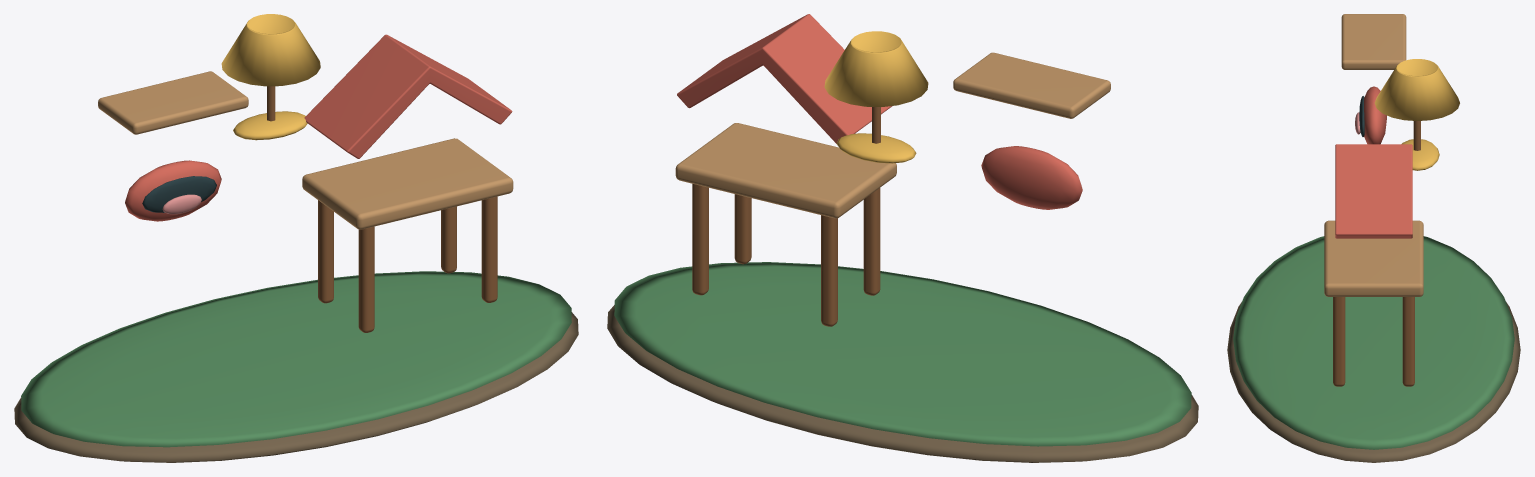
File: complete-third-covered-table-lamp.glb
The picture shows the model from 3 angles, left to right: view 1: azimuth 30°, elevation 25°; view 2: azimuth 150°, elevation 25°; view 3: azimuth 270°, elevation 25°; orthographic projection. The views are drawn at different scales.
Parts seen in each view (by area): view 1: complete-third-covered-table-lamp_surface_01, complete-third-covered-table-lamp_surface_02, complete-third-covered-table-lamp_surface_03, complete-third-covered-table-lamp_surface_00, complete-third-covered-table-lamp_surface_07, complete-third-covered-table-lamp_surface_06, complete-third-covered-table-lamp_surface_04, complete-third-covered-table-lamp_surface_05; view 2: complete-third-covered-table-lamp_surface_01, complete-third-covered-table-lamp_surface_02, complete-third-covered-table-lamp_surface_03, complete-third-covered-table-lamp_surface_00, complete-third-covered-table-lamp_surface_07, complete-third-covered-table-lamp_surface_06; view 3: complete-third-covered-table-lamp_surface_01, complete-third-covered-table-lamp_surface_02, complete-third-covered-table-lamp_surface_03, complete-third-covered-table-lamp_surface_00, complete-third-covered-table-lamp_surface_07, complete-third-covered-table-lamp_surface_06.
Boxes of the visible parts, left/top/right/bottom form: complete-third-covered-table-lamp_surface_01: left=21, top=271, right=571, bottom=447; complete-third-covered-table-lamp_surface_02: left=98, top=71, right=513, bottom=229; complete-third-covered-table-lamp_surface_03: left=125, top=34, right=512, bottom=221; complete-third-covered-table-lamp_surface_00: left=14, top=312, right=578, bottom=462; complete-third-covered-table-lamp_surface_07: left=221, top=14, right=320, bottom=140; complete-third-covered-table-lamp_surface_06: left=267, top=86, right=497, bottom=332; complete-third-covered-table-lamp_surface_04: left=142, top=176, right=216, bottom=212; complete-third-covered-table-lamp_surface_05: left=162, top=194, right=201, bottom=214; complete-third-covered-table-lamp_surface_01: left=614, top=262, right=1191, bottom=446; complete-third-covered-table-lamp_surface_02: left=675, top=52, right=1110, bottom=218; complete-third-covered-table-lamp_surface_03: left=677, top=14, right=1082, bottom=209; complete-third-covered-table-lamp_surface_00: left=607, top=305, right=1198, bottom=462; complete-third-covered-table-lamp_surface_07: left=824, top=31, right=928, bottom=163; complete-third-covered-table-lamp_surface_06: left=692, top=107, right=880, bottom=326; complete-third-covered-table-lamp_surface_01: left=1233, top=236, right=1514, bottom=449; complete-third-covered-table-lamp_surface_02: left=1324, top=14, right=1423, bottom=296; complete-third-covered-table-lamp_surface_03: left=1335, top=86, right=1412, bottom=238; complete-third-covered-table-lamp_surface_00: left=1227, top=302, right=1520, bottom=462; complete-third-covered-table-lamp_surface_07: left=1374, top=59, right=1459, bottom=170; complete-third-covered-table-lamp_surface_06: left=1333, top=121, right=1420, bottom=386.
Bounding box in the file's own units: 4.56 × 2.79 × 2.5.
